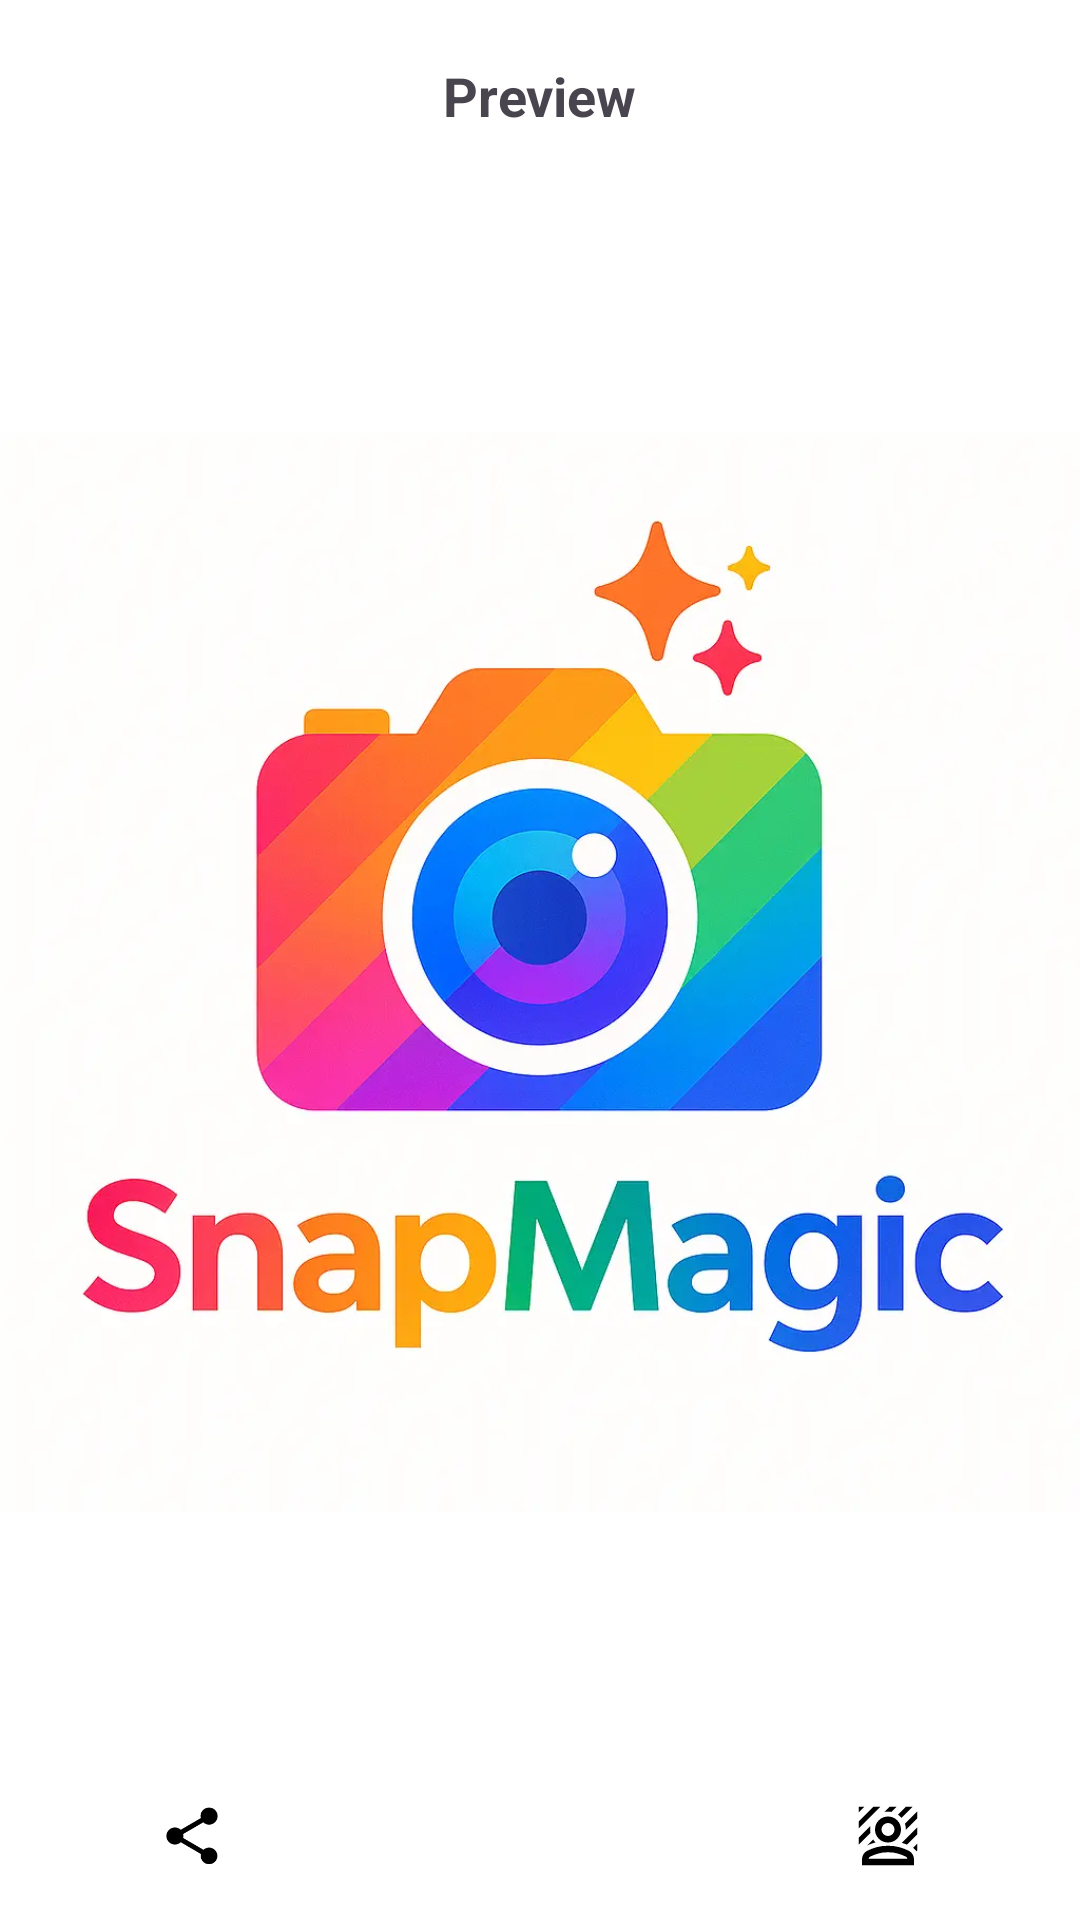

Locate icon controls on the screen. Image size 1080*1920, boxes as (x1, y1, x2, y2).
share: (166, 1807, 218, 1864)
